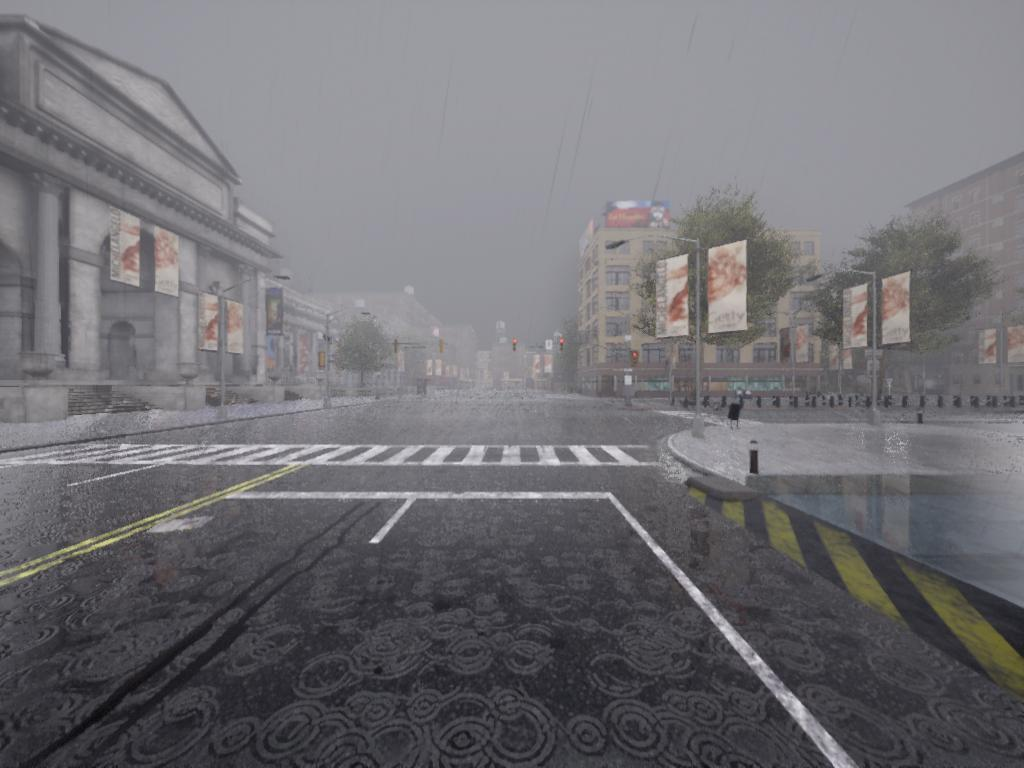traffic_light: (511, 341, 519, 355), (320, 352, 326, 370), (634, 354, 642, 366), (394, 339, 400, 354), (440, 341, 445, 355), (561, 340, 565, 353)
